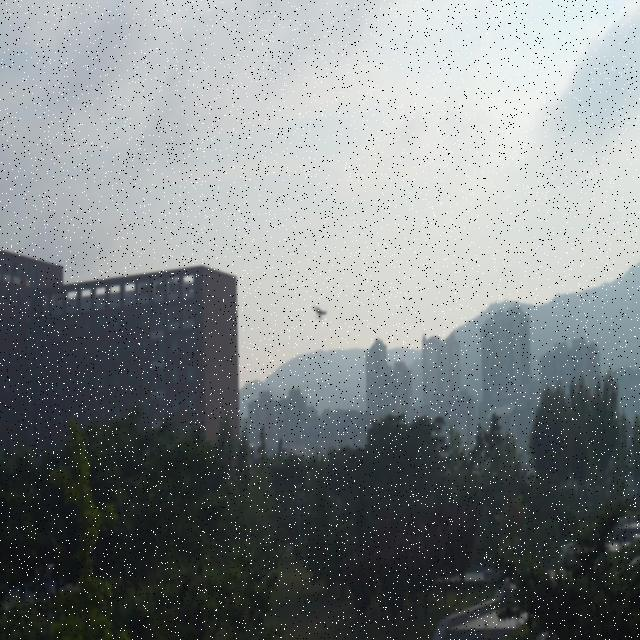UAV: (310, 305, 328, 322)
